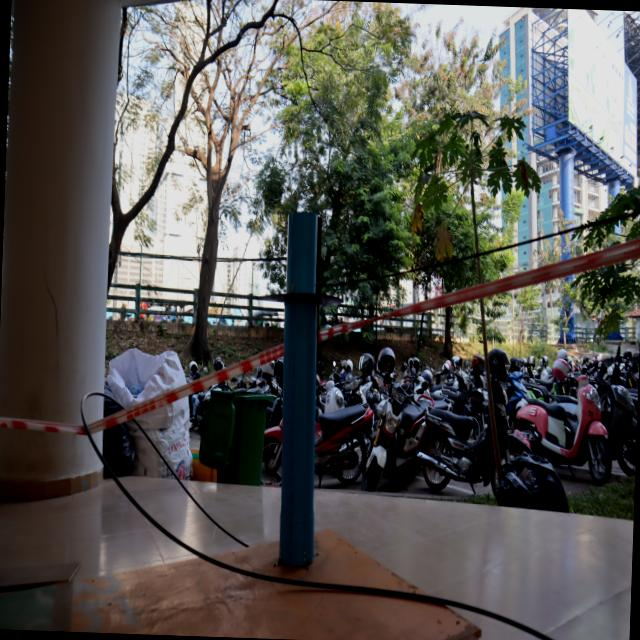pole: (263, 205, 344, 396)
